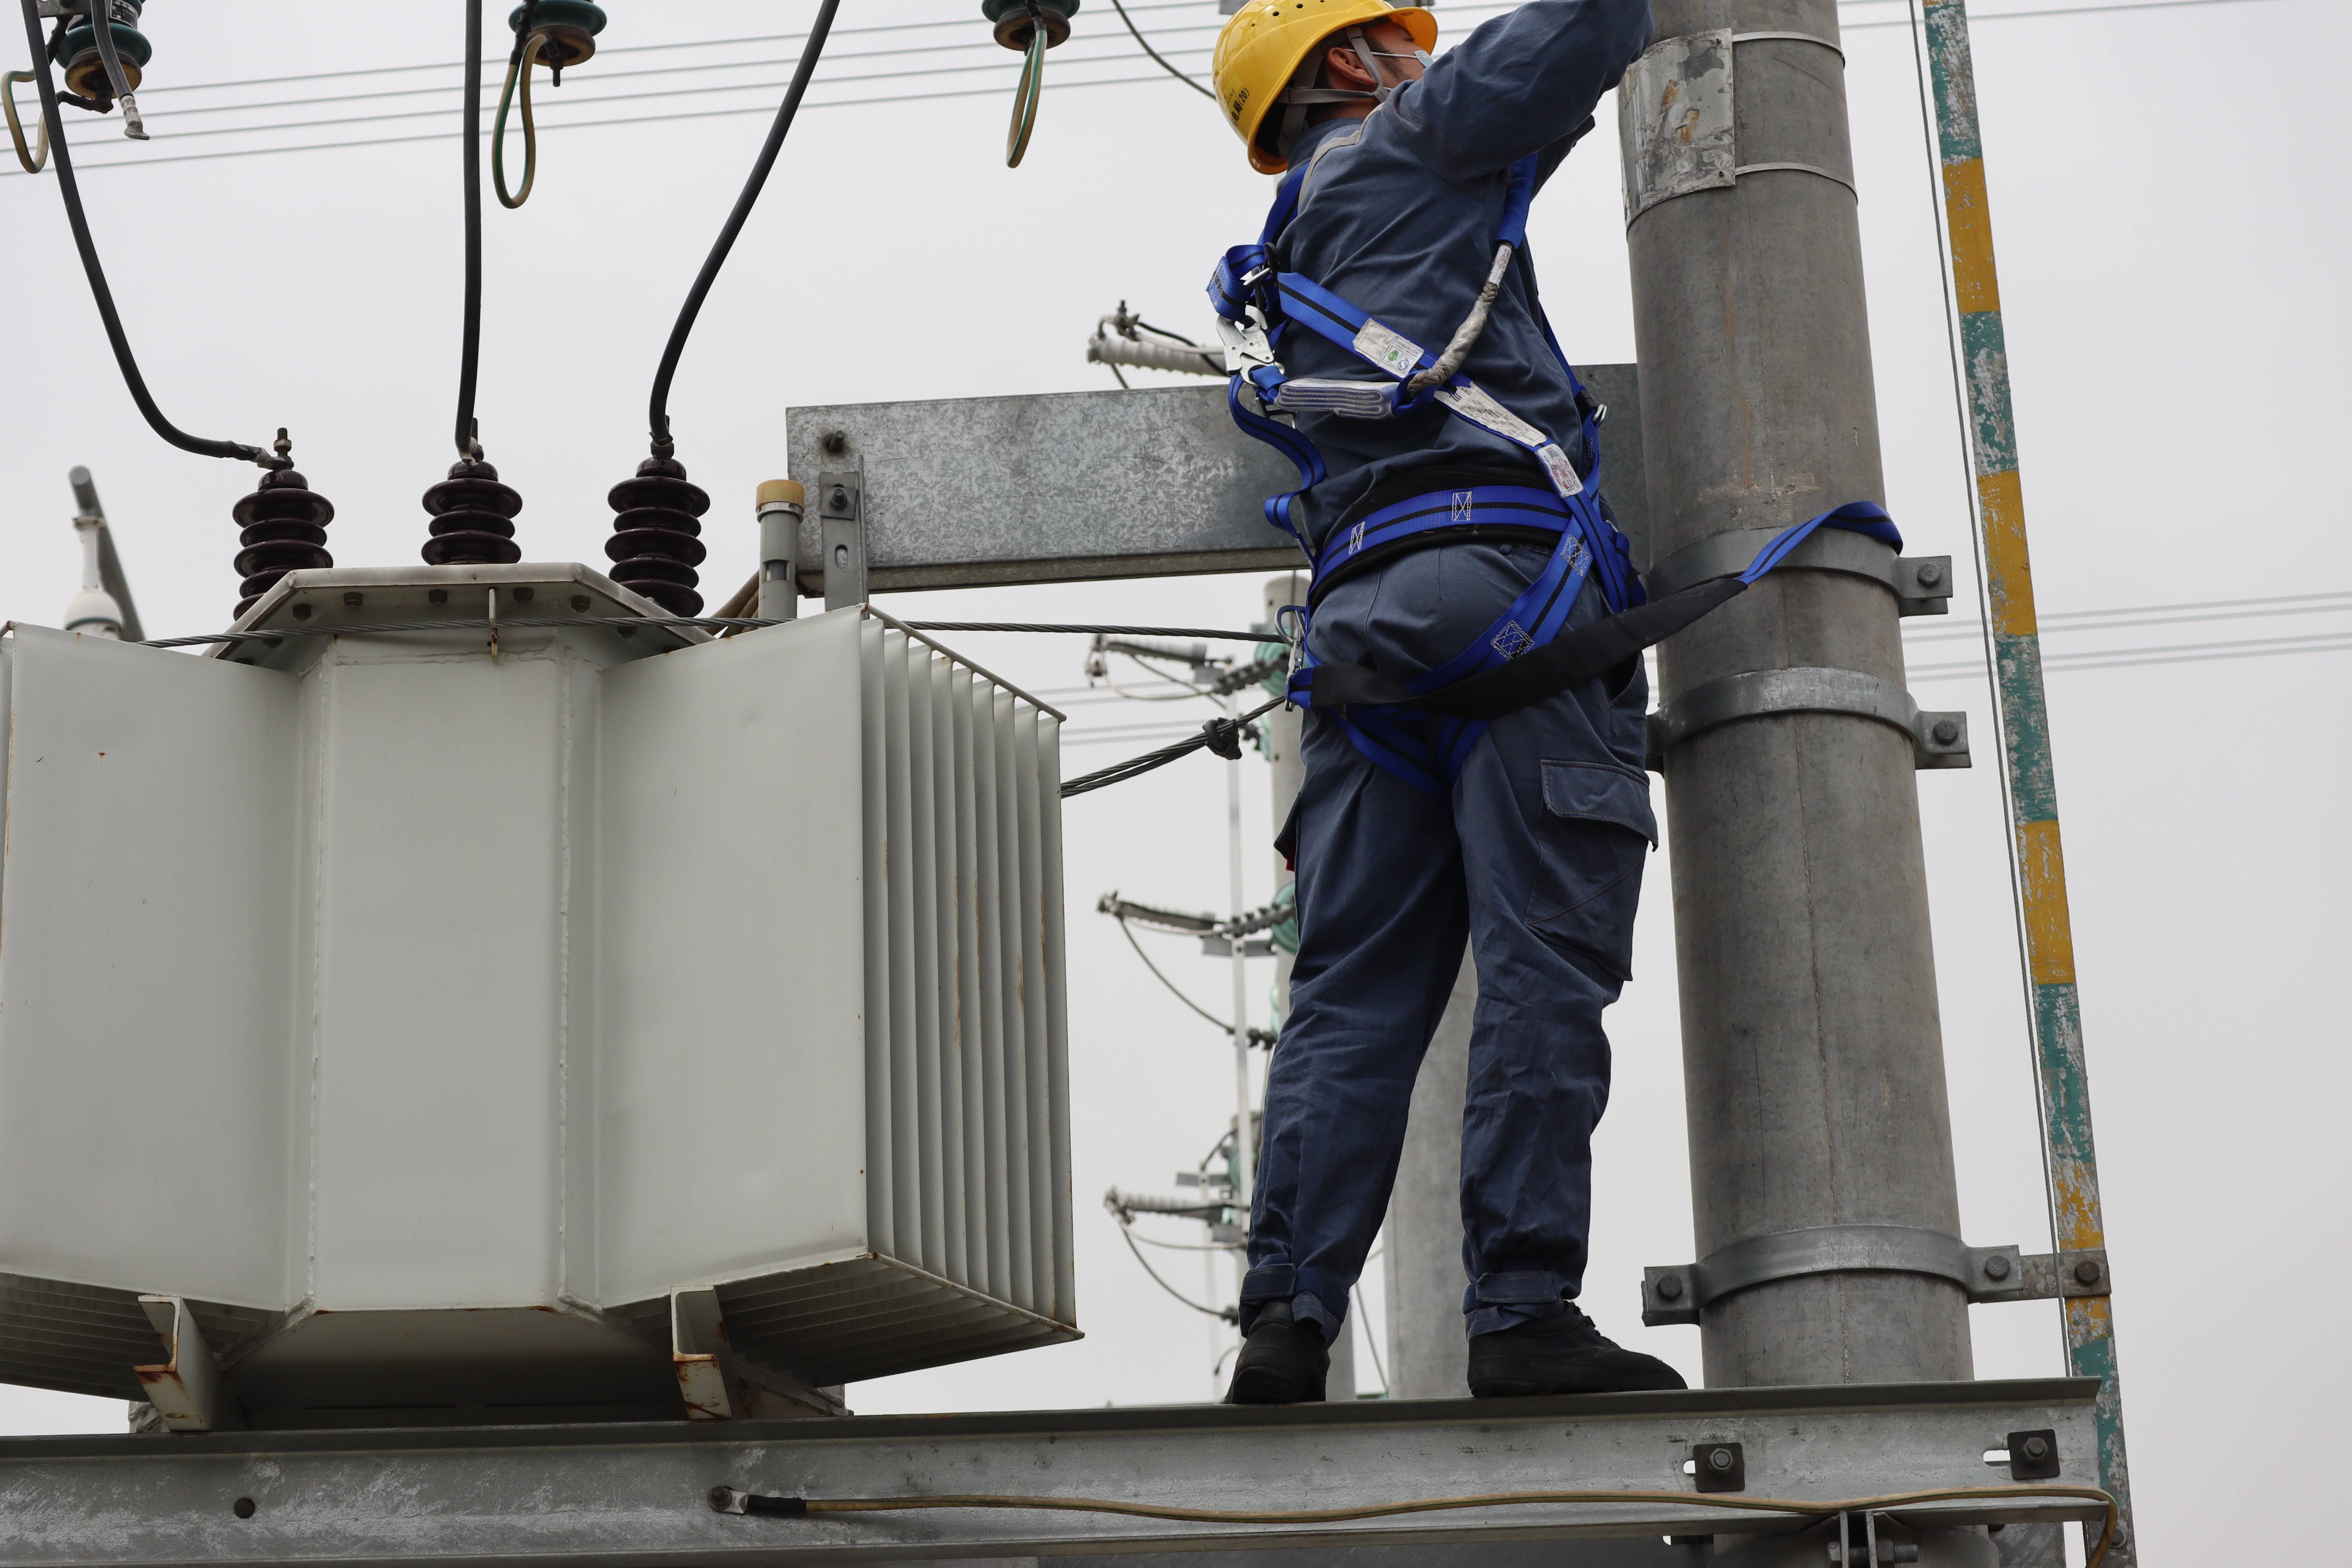downsuit: (1234, 549, 1662, 1333)
upsuit: (1237, 9, 1738, 555)
